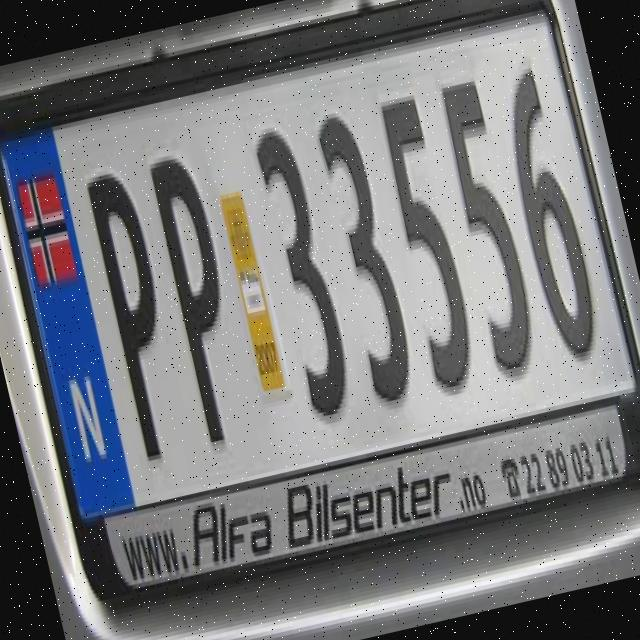EU: (0, 3, 632, 512)
Pays-Bas: (0, 119, 133, 512)
